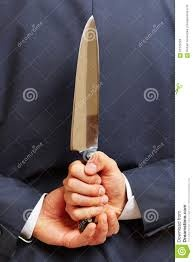knife: (70, 13, 100, 232)
